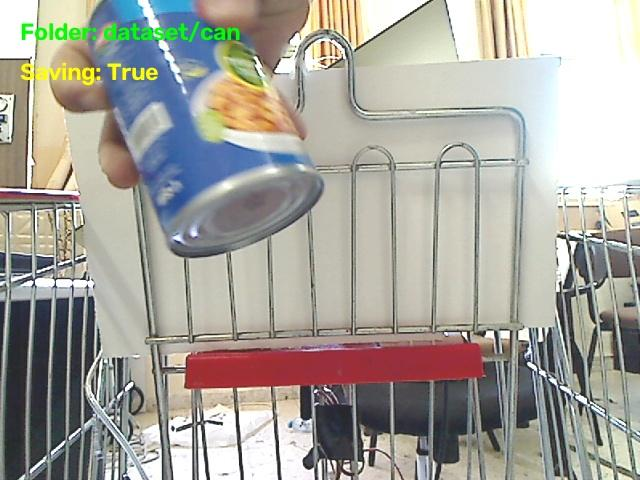can: (89, 0, 322, 256)
